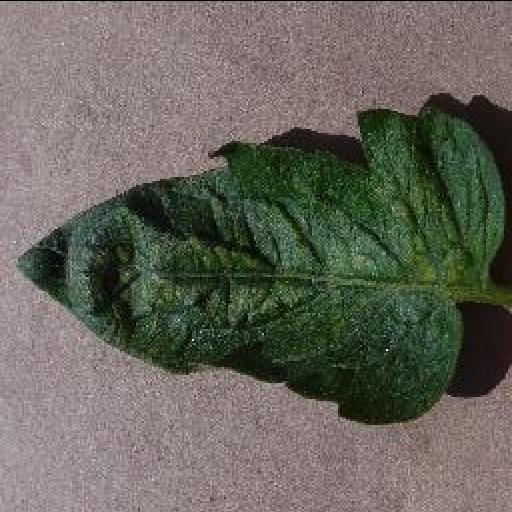disease_tomato: (14, 106, 508, 424)
